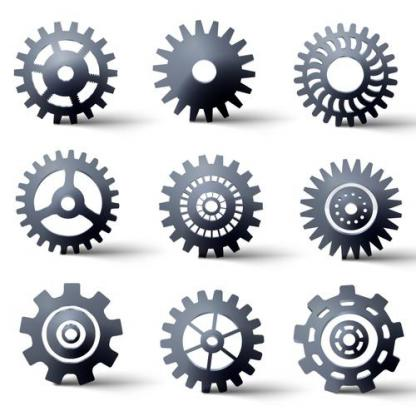FOD: (287, 280, 405, 399), (154, 150, 267, 262), (150, 15, 262, 127), (156, 285, 267, 396), (11, 16, 120, 129), (16, 280, 127, 390), (296, 153, 405, 265), (291, 18, 399, 131), (14, 146, 121, 257)
